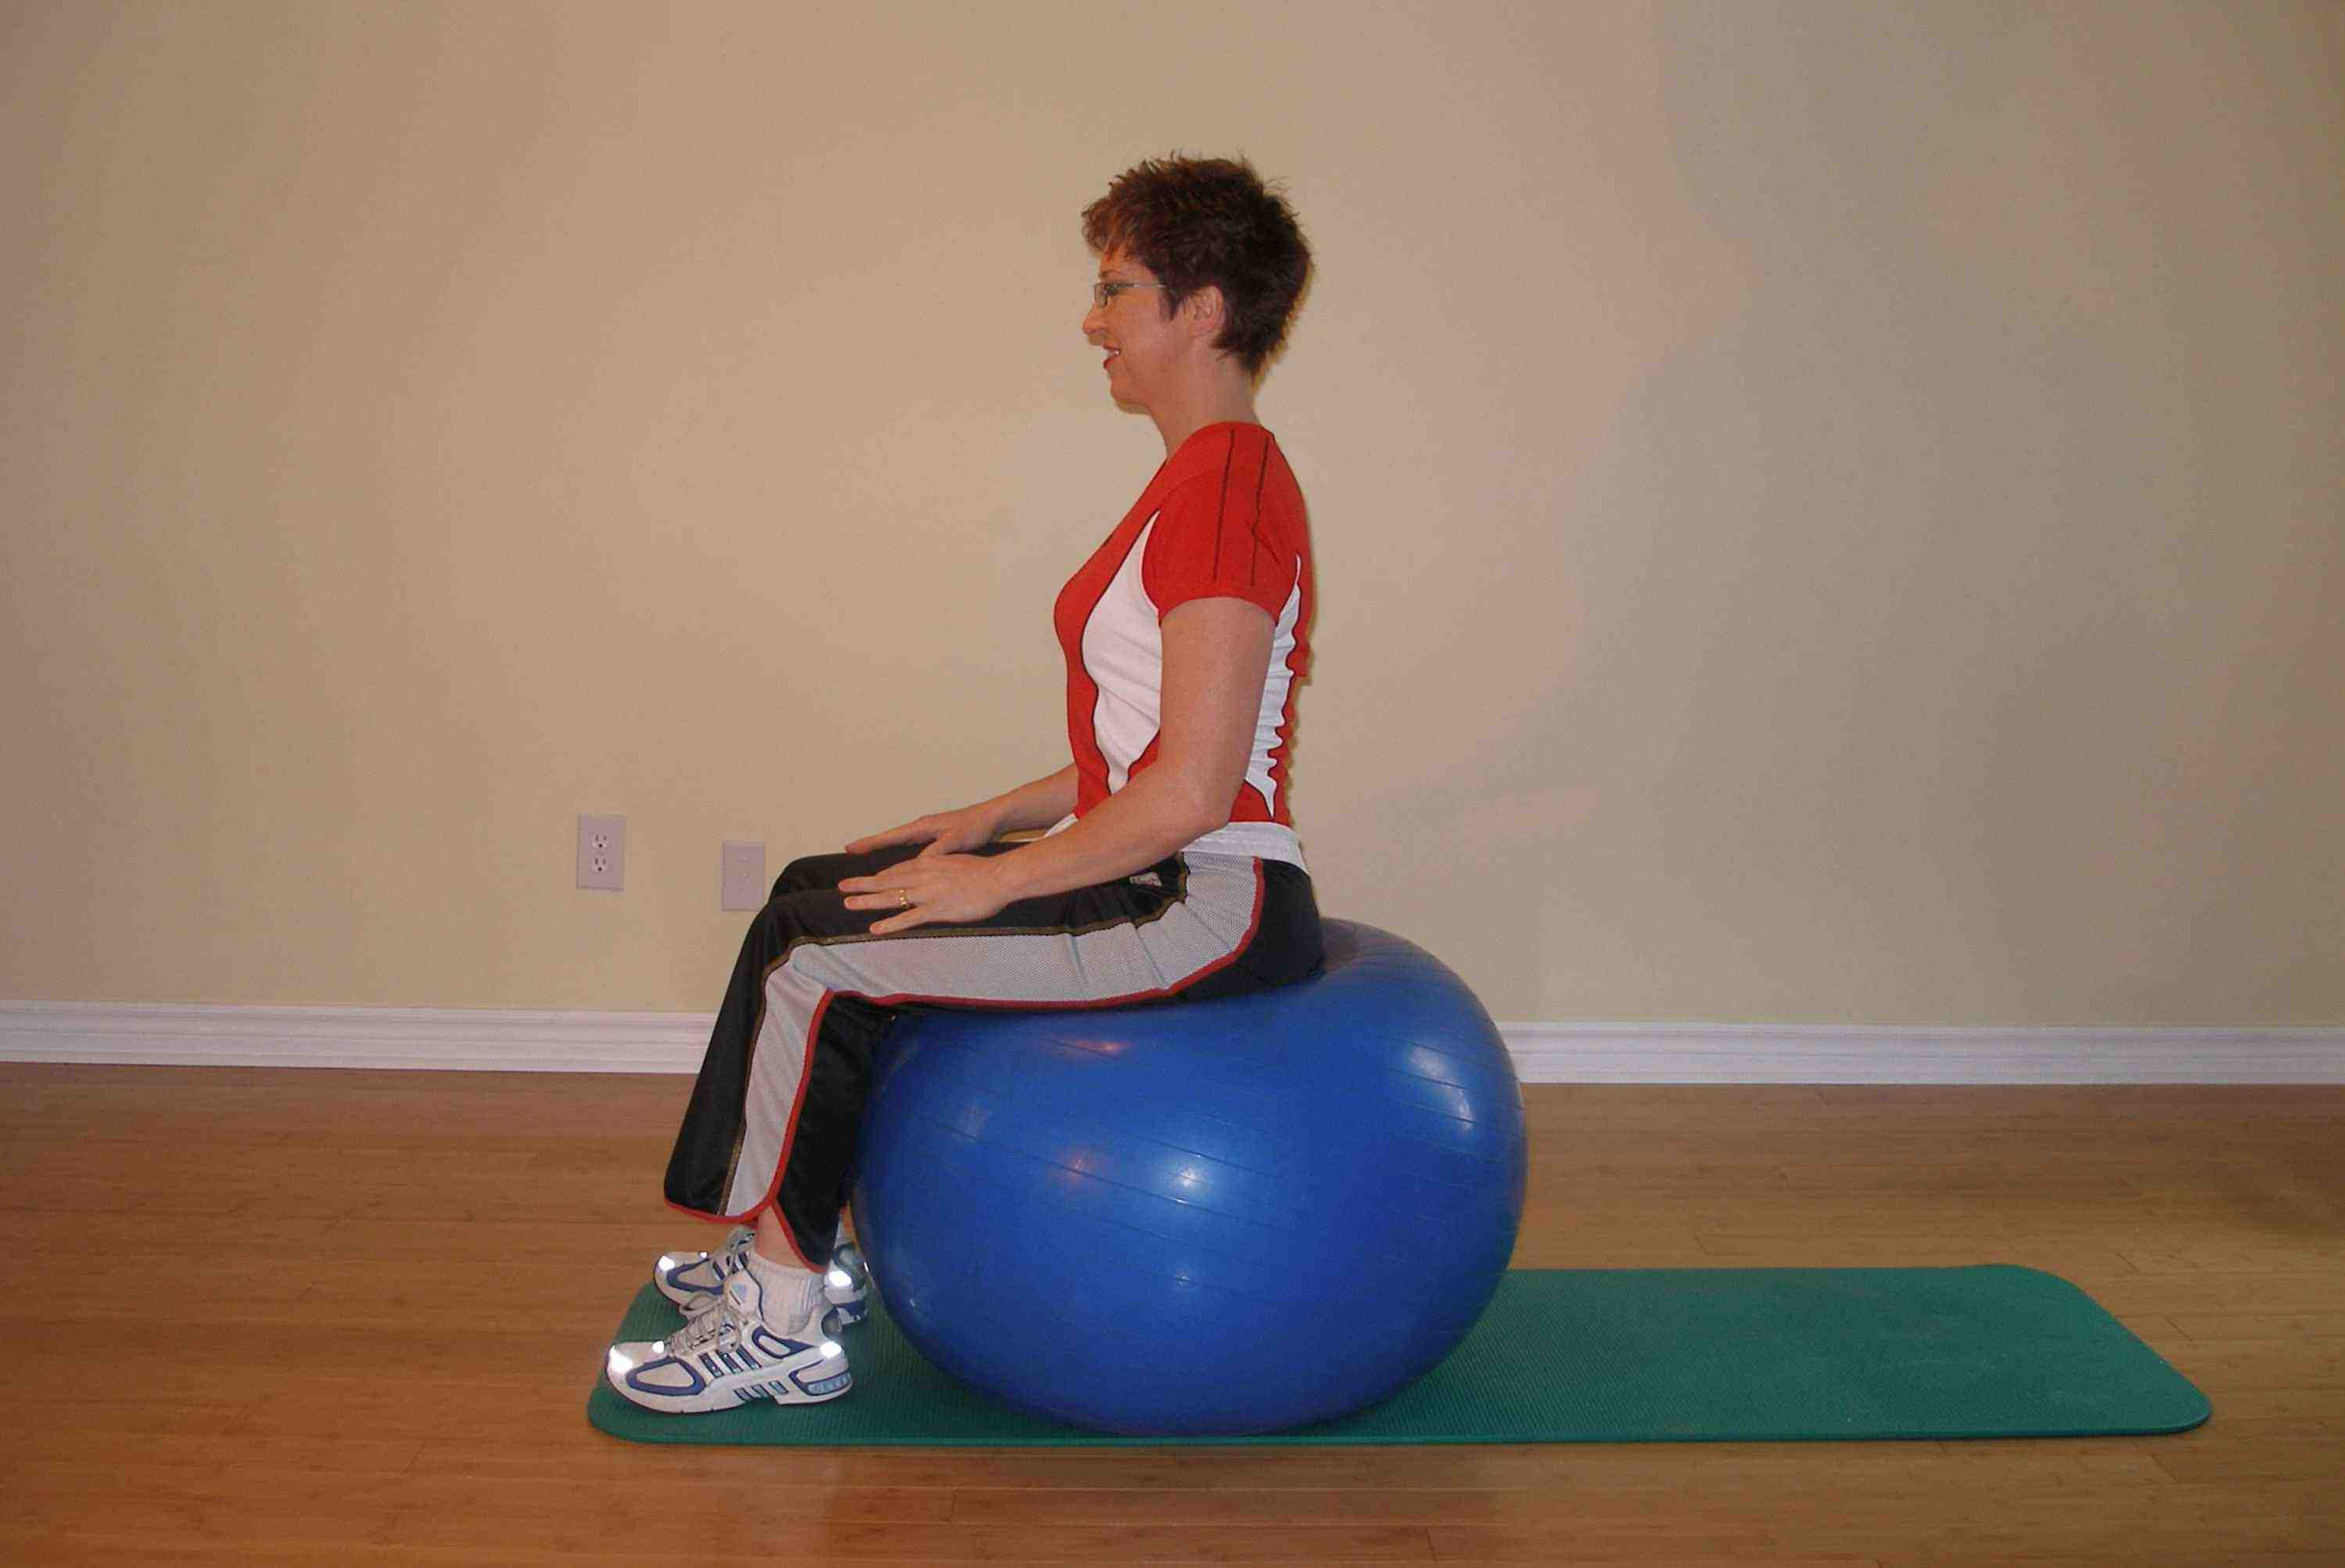yogaball: (838, 913, 1594, 1449)
